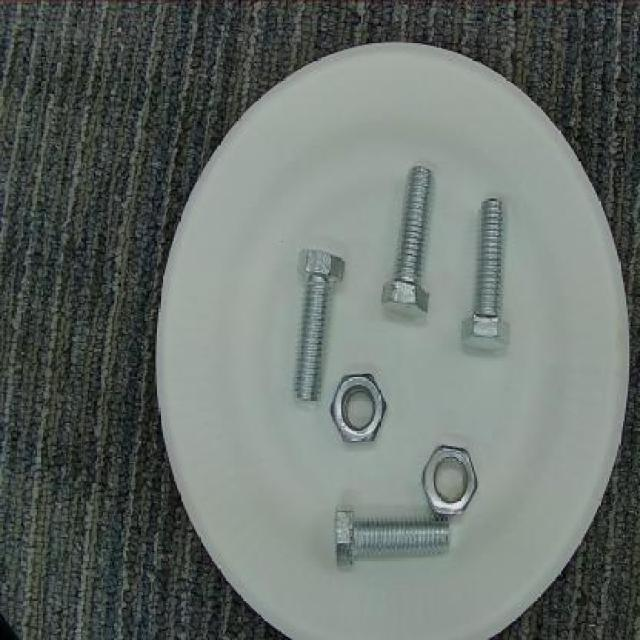Bolt: (376, 162, 437, 323), (456, 195, 514, 358), (328, 501, 456, 574), (290, 243, 346, 406)
Nut: (421, 443, 480, 520), (332, 368, 386, 448)
